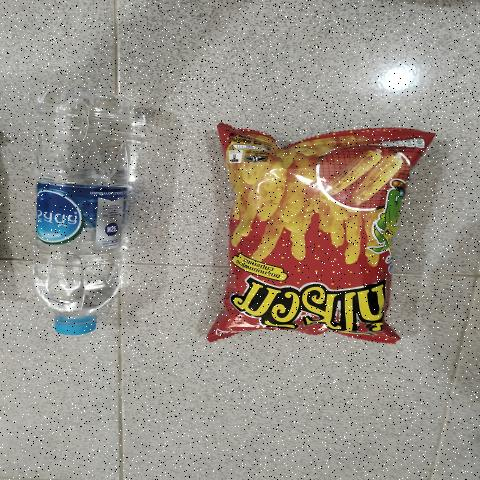crystal: (33, 104, 131, 336)
twisco: (201, 136, 441, 340)
